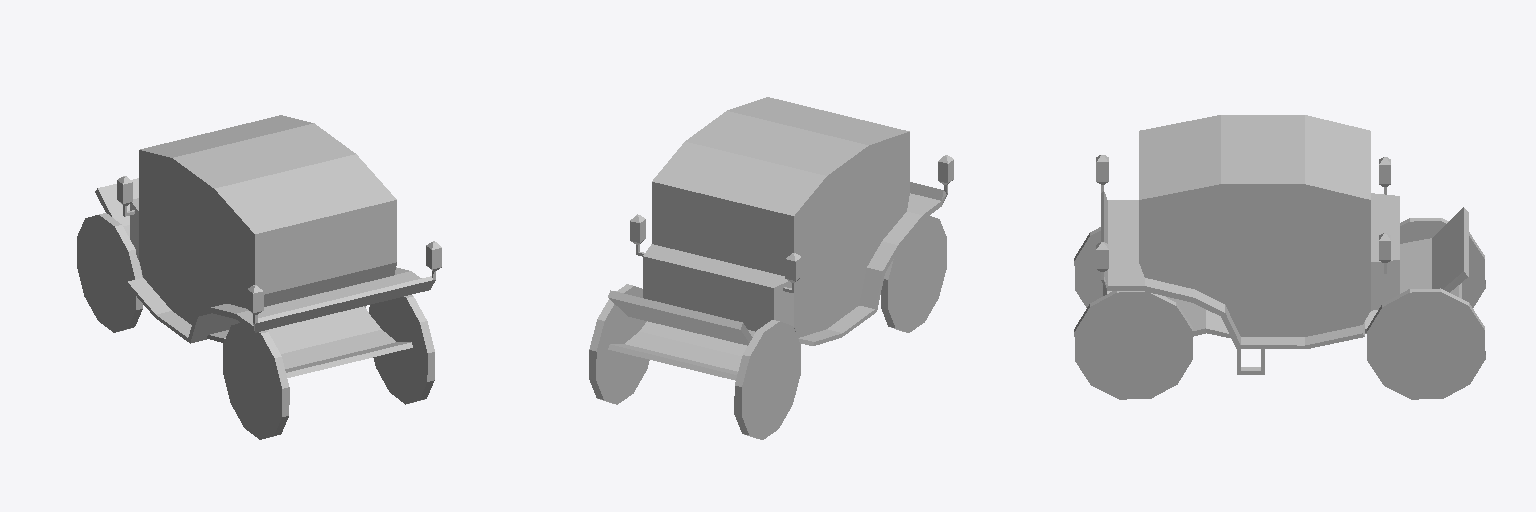
The model's file is secondCar.obj.
3 renders of one model, left to right at view 1: azimuth 30°, elevation 25°; view 2: azimuth 150°, elevation 25°; view 3: azimuth 270°, elevation 25°, orthographic.
Visible parts, largest first — view 1: polySurface22.001; view 2: polySurface22.001; view 3: polySurface22.001.
Boxes of the visible parts, <box> form: polySurface22.001: <box>77,115,441,439</box>; polySurface22.001: <box>589,97,953,439</box>; polySurface22.001: <box>1074,115,1485,399</box>.
Size of the model in its own units: 0.295 by 0.3173 by 0.5556.